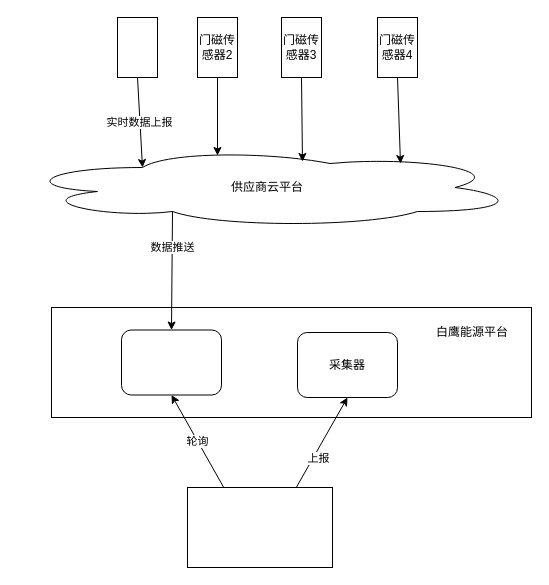
Image size: 549x585. Some labels were removed from this diagram. Each missing label, with the centre of its shape:
"微服务: HTTP接口" belongs at pixel 171 362.
"网关： Json --> IEC104" belongs at pixel 259 527.
"门磁传感器1" belongs at pixel 137 47.
